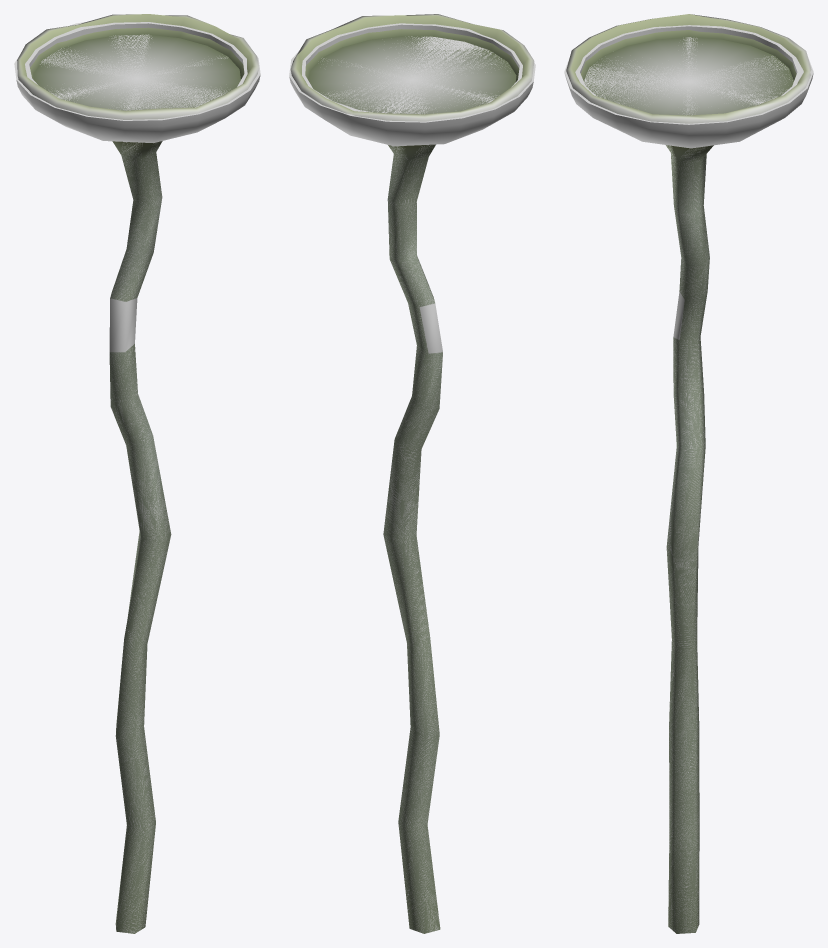
The model's file is LotasPlatform.gltf.
3 views of the same model, side by side, from view 1: azimuth 30°, elevation 25°; view 2: azimuth 150°, elevation 25°; view 3: azimuth 270°, elevation 25° (orthographic).
Parts seen in each view (by area): view 1: LotasPlatformMesh, LotasPlatformColWall, LotasPlatformColFloor; view 2: LotasPlatformMesh, LotasPlatformColWall, LotasPlatformColFloor; view 3: LotasPlatformMesh, LotasPlatformColWall, LotasPlatformColFloor.
Part boxes in pixels (<box>): LotasPlatformMesh: <box>17,14,259,933</box>; LotasPlatformColWall: <box>16,23,260,932</box>; LotasPlatformColFloor: <box>14,22,260,120</box>; LotasPlatformMesh: <box>290,14,534,933</box>; LotasPlatformColWall: <box>289,24,533,933</box>; LotasPlatformColFloor: <box>289,23,535,122</box>; LotasPlatformMesh: <box>566,14,811,933</box>; LotasPlatformColWall: <box>565,26,813,932</box>; LotasPlatformColFloor: <box>564,25,813,124</box>.
Size of the model in its own units: 7.24 by 27.82 by 7.24.
